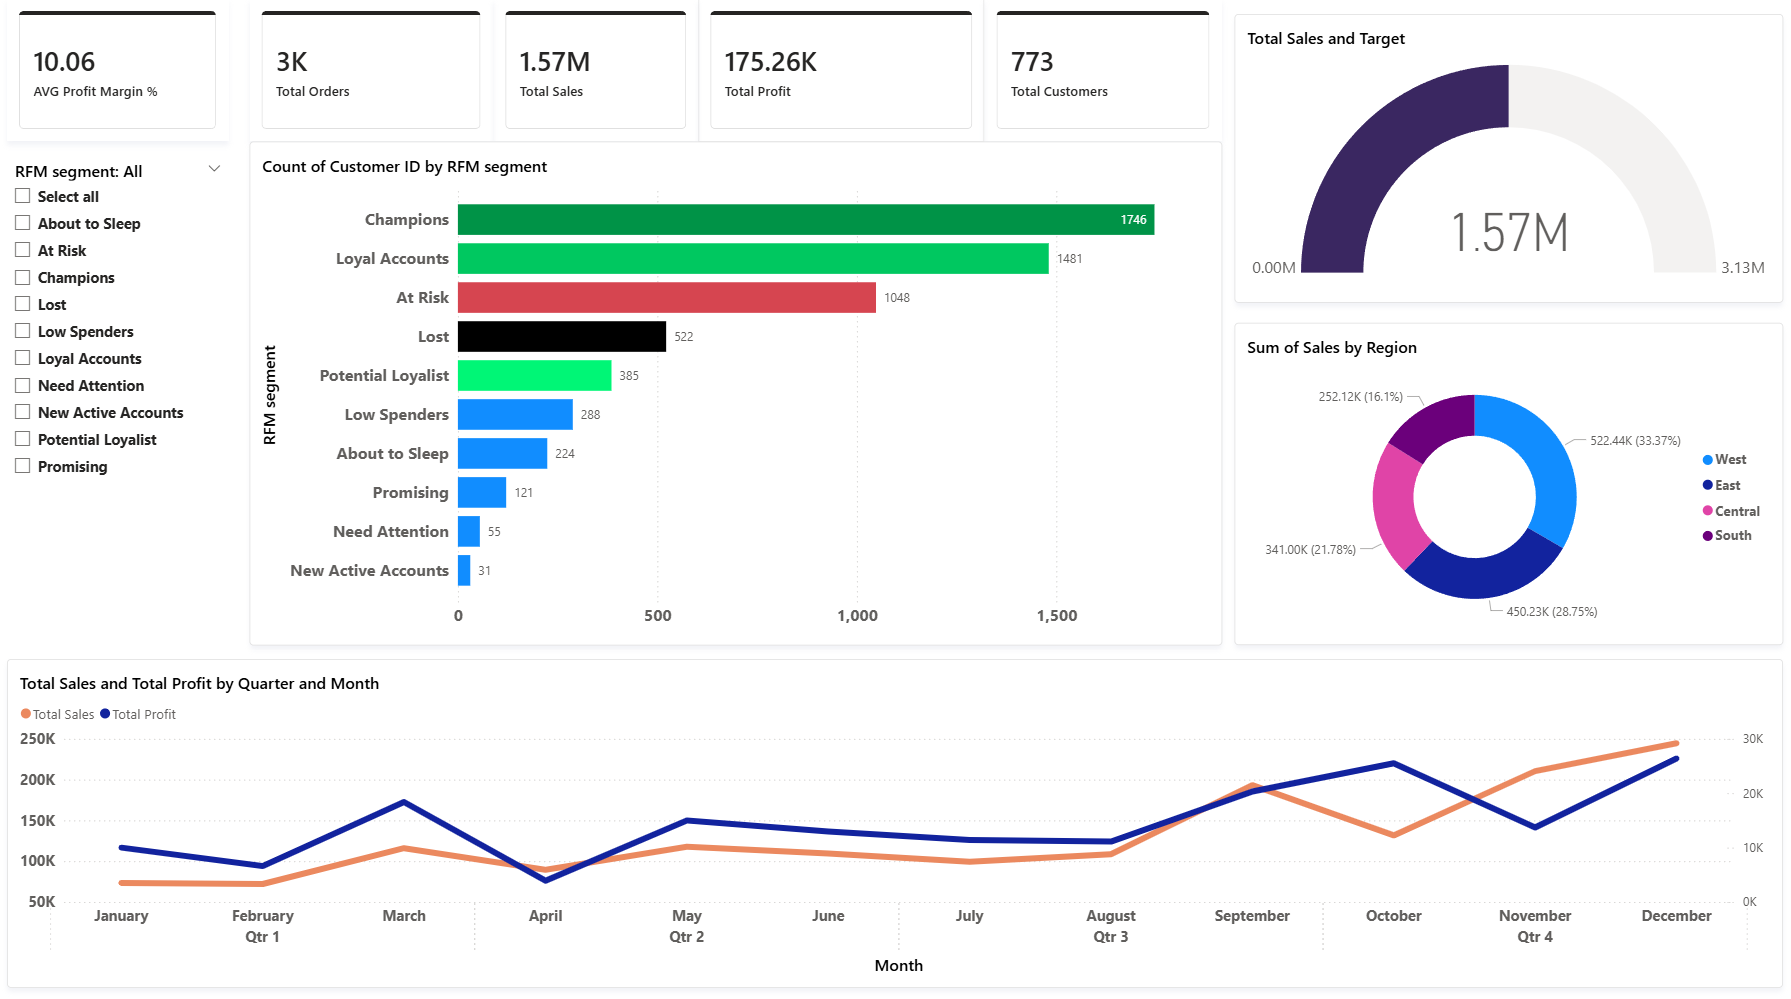

The dashboard page shown, as its layout file describes it:
{"tool":"powerbi","page":{"name":"Page 1","canvas":[1800,1000],"ordinal":0},"visuals":[{"type":"cardVisual","fields":{"Data":["final_kpi_rfm_dataset.AVG Profit Margin %"]},"box":[10,0,221.2,142.5],"z":0},{"type":"cardVisual","fields":{"Data":["final_kpi_rfm_dataset.Total Customers"]},"box":[987.5,0,237.5,142.5],"z":1000},{"type":"cardVisual","fields":{"Data":["final_kpi_rfm_dataset.Total Orders"]},"box":[252.5,0,243.8,142.5],"z":2000},{"type":"cardVisual","fields":{"Data":["final_kpi_rfm_dataset.Total Profit"]},"box":[701.2,0,286.2,142.5],"z":3000},{"type":"cardVisual","fields":{"Data":["final_kpi_rfm_dataset.Total Sales"]},"box":[496.2,0,205,142.5],"z":4000},{"type":"slicer","fields":{"Values":["final_kpi_rfm_dataset.RFM segment"]},"box":[10,160,221.2,486.2],"z":5002},{"type":"lineChart","fields":{"Category":["final_kpi_rfm_dataset.Order Date.Variation.Date Hierarchy.Quarter","final_kpi_rfm_dataset.Order Date.Variation.Date Hierarchy.Month"],"Y2":["final_kpi_rfm_dataset.Total Profit"],"Y":["final_kpi_rfm_dataset.Total Sales"]},"box":[10,660,1776.2,328.8],"z":5003},{"type":"clusteredBarChart","fields":{"Category":["final_kpi_rfm_dataset.RFM segment"],"Y":["CountNonNull(final_kpi_rfm_dataset.Customer ID)"]},"box":[252.5,142.5,972.5,503.8],"z":5004},{"type":"donutChart","fields":{"Y":["Sum(final_kpi_rfm_dataset.Sales)"],"Category":["final_kpi_rfm_dataset.Region"]},"box":[1237.5,323.8,548.8,322.5],"z":5005},{"type":"gauge","title":"Total Sales and Target","fields":{"Y":["final_kpi_rfm_dataset.Total Sales"]},"box":[1237.5,15,548.8,288.8],"z":5006}]}

Visuals, with their boxes in screenshot pixels (x1, y1, x2, y2), scaled from the page's 1800x1000 canvas onto the 1791x999 screenshot:
cardVisual - final_kpi_rfm_dataset.AVG Profit Margin %: l=10, t=0, r=230, b=142
cardVisual - final_kpi_rfm_dataset.Total Customers: l=983, t=0, r=1219, b=142
cardVisual - final_kpi_rfm_dataset.Total Orders: l=251, t=0, r=494, b=142
cardVisual - final_kpi_rfm_dataset.Total Profit: l=698, t=0, r=982, b=142
cardVisual - final_kpi_rfm_dataset.Total Sales: l=494, t=0, r=698, b=142
slicer - final_kpi_rfm_dataset.RFM segment: l=10, t=160, r=230, b=646
lineChart - final_kpi_rfm_dataset.Order Date.Variation.Date Hierarchy.Quarter x final_kpi_rfm_dataset.Order Date.Variation.Date Hierarchy.Month: l=10, t=659, r=1777, b=988
clusteredBarChart - final_kpi_rfm_dataset.RFM segment x CountNonNull(final_kpi_rfm_dataset.Customer ID): l=251, t=142, r=1219, b=646
donutChart - Sum(final_kpi_rfm_dataset.Sales) x final_kpi_rfm_dataset.Region: l=1231, t=323, r=1777, b=646
"Total Sales and Target" gauge: l=1231, t=15, r=1777, b=303
